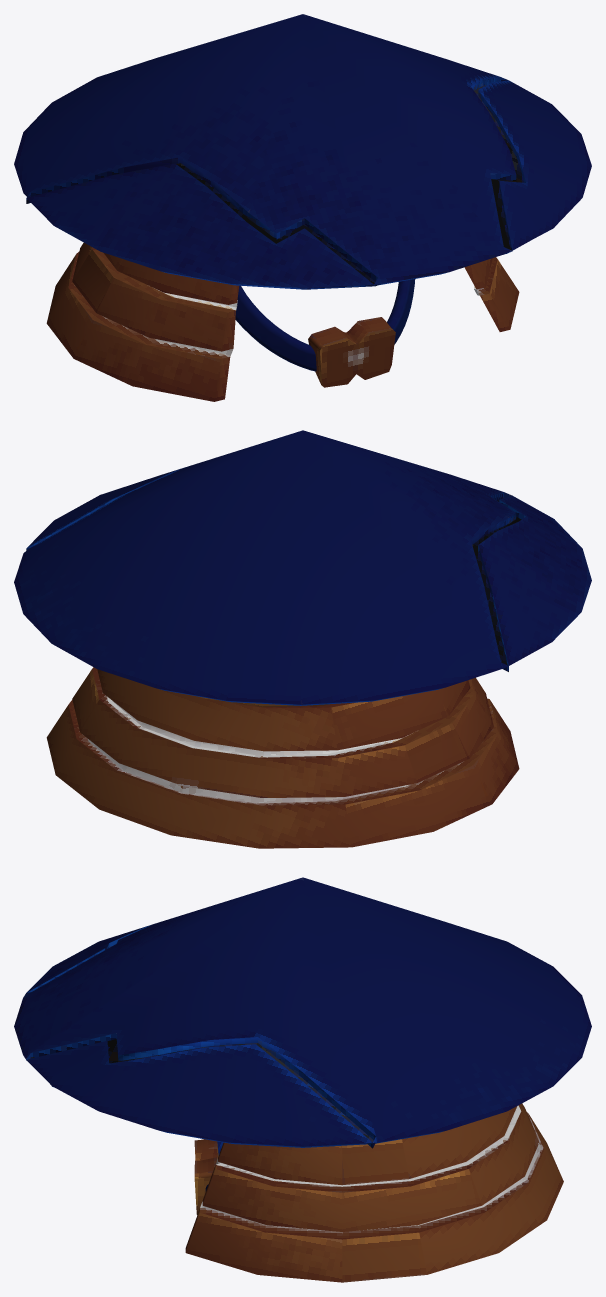
The model's file is wear_kabuto.glb.
3 views of the same model, one above another, from view 1: azimuth 30°, elevation 25°; view 2: azimuth 150°, elevation 25°; view 3: azimuth 270°, elevation 25° (orthographic).
Visible parts, largest first — view 1: mesh; view 2: mesh; view 3: mesh.
Part boxes in pixels (x1,y1,x2,y2): mesh: (14, 14, 591, 401); mesh: (14, 430, 591, 848); mesh: (14, 877, 591, 1282).
Size of the model in its own units: 0.3169 by 0.2 by 0.3224.
Materials: 1 (1 with a texture image).
